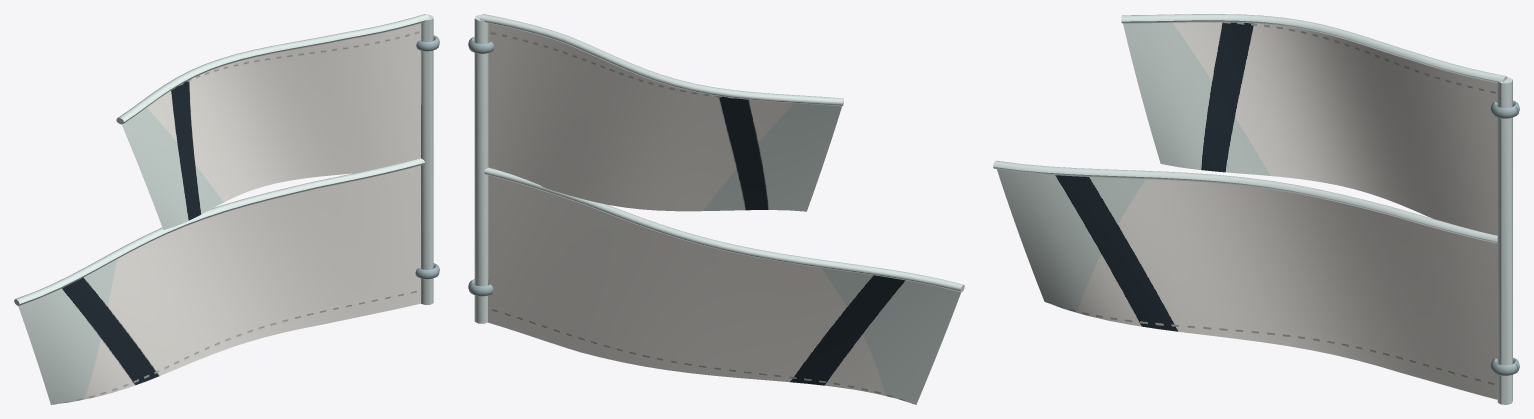
Rendered from Pennant_22_SR_外海・二重線.glb.
3 views of the same model, side by side, from view 1: azimuth 30°, elevation 25°; view 2: azimuth 150°, elevation 25°; view 3: azimuth 330°, elevation 25° (orthographic). The views are drawn at different scales.
Visible parts, largest first — view 1: Pennant_22_SR; view 2: Pennant_22_SR; view 3: Pennant_22_SR.
Boxes of the visible parts, bbox=[...] form: Pennant_22_SR: bbox=[14, 14, 439, 404]; Pennant_22_SR: bbox=[468, 14, 964, 404]; Pennant_22_SR: bbox=[993, 14, 1519, 404].
Size of the model in its own units: 0.2927 by 0.1834 by 0.0425.
Materials: 3 (3 with a texture image).
